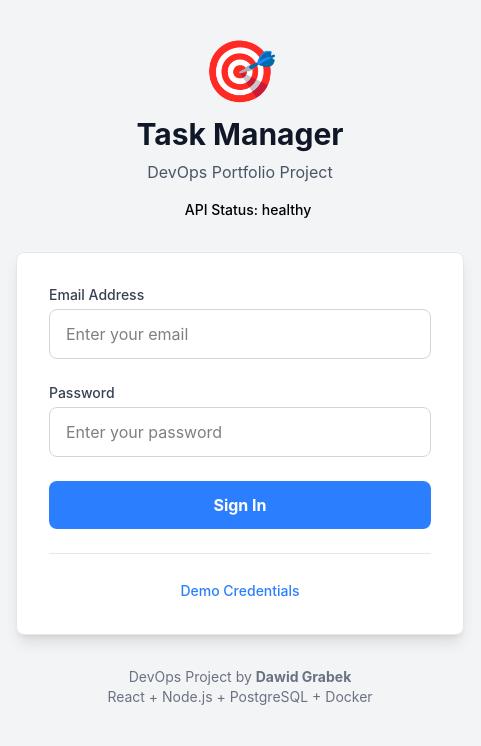
Test: LoginForm › shows invalid email format error
Type "test@test.c" into the field labelled "Email Address".
click(240, 334); type("test@test.c")  # box [49, 308, 431, 358]
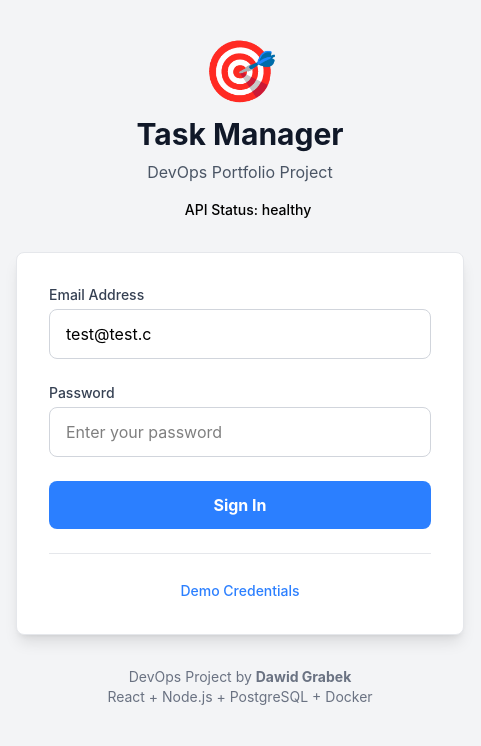
Click the button "Sign In".
click(240, 504)  # box [49, 480, 431, 528]
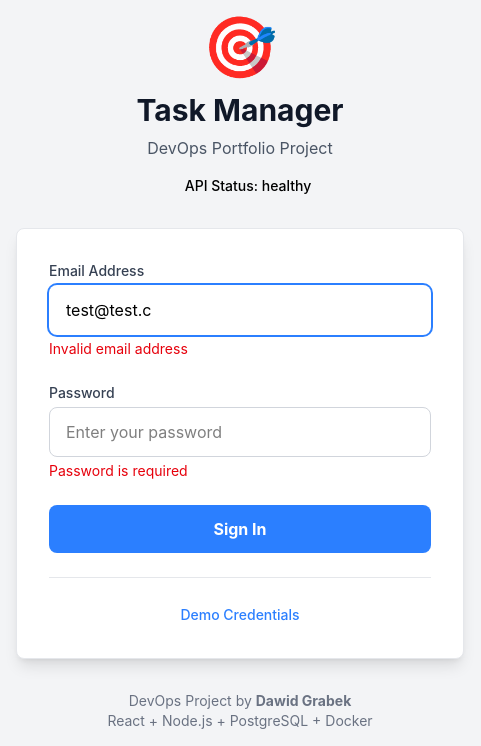
Expected: the text "Invalid email address" is shown, [49, 340, 188, 356]
